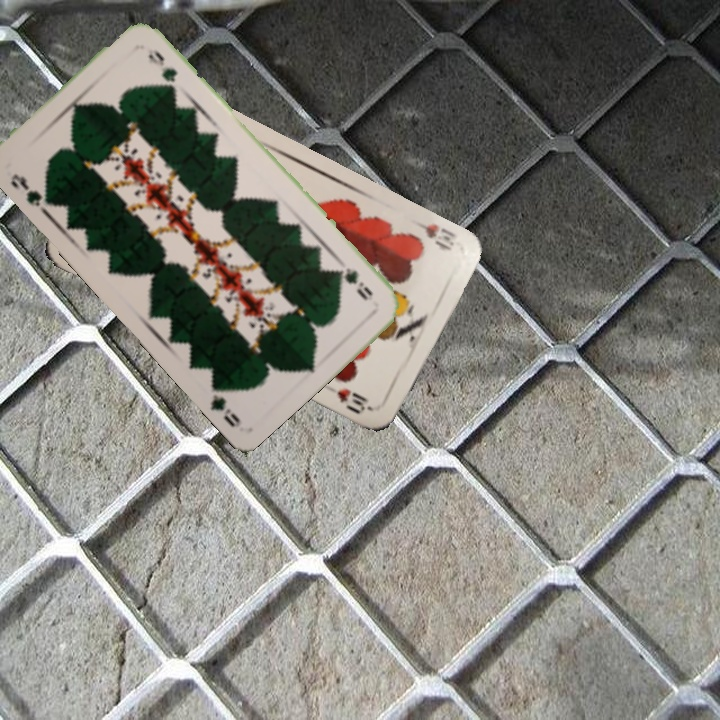G9: (6, 169, 54, 209), (333, 264, 376, 303)
H10: (406, 215, 458, 254)
